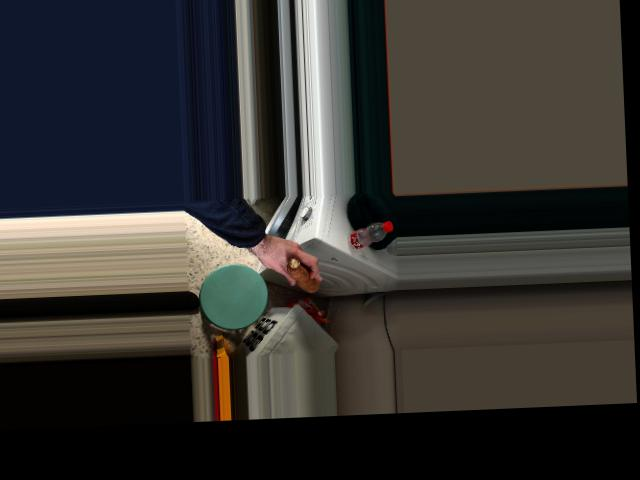sweet_potato: (282, 253, 323, 292)
